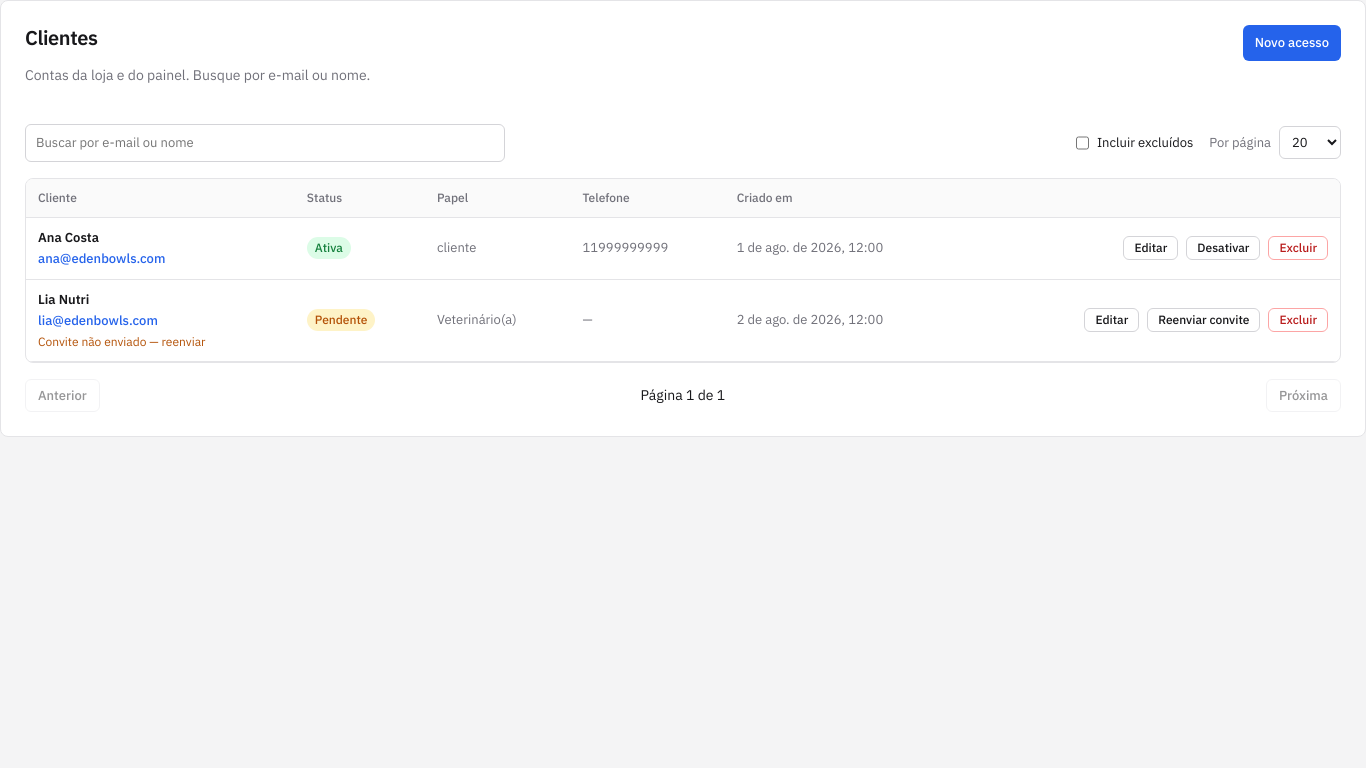
Test case: UsersPage access CRUD › does not create access when Mercado is empty
This screenshot has width=1366, height=768.
Click the button "Novo acesso" at (1292, 43), box [1243,25,1341,60]
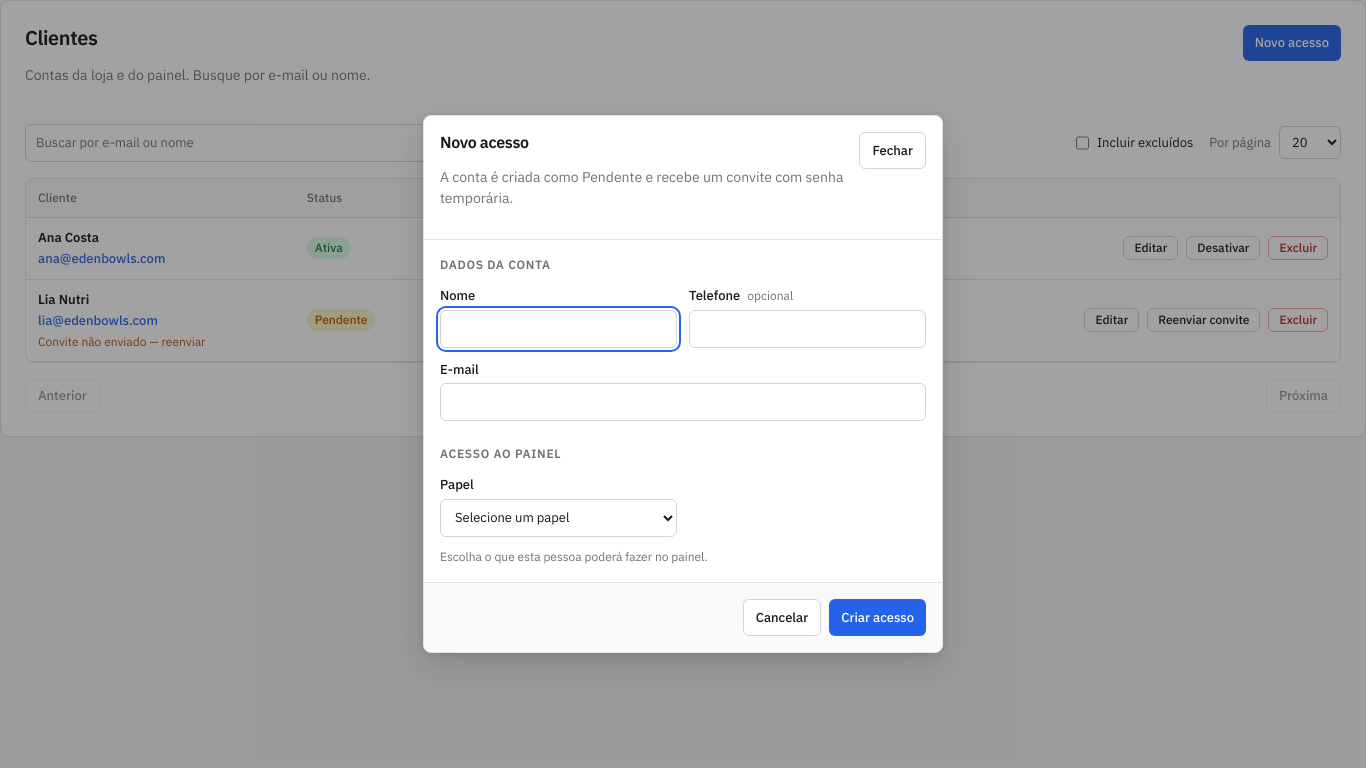
Type "Lia" into the field labelled "Nome" at (558, 329), box [440,310,677,348]
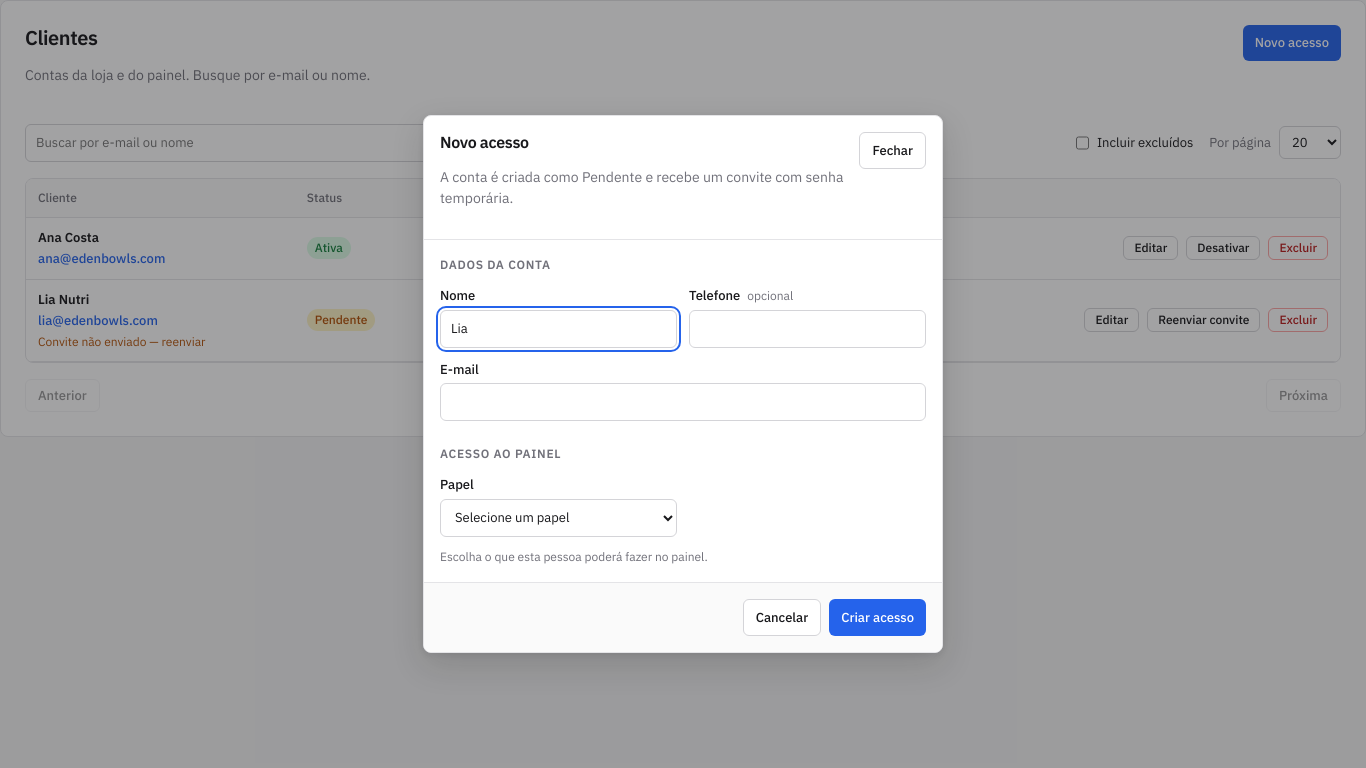
Type "nova.lia@edenbowls.com" into the field labelled "E-mail" at (683, 402), box [440,383,926,421]
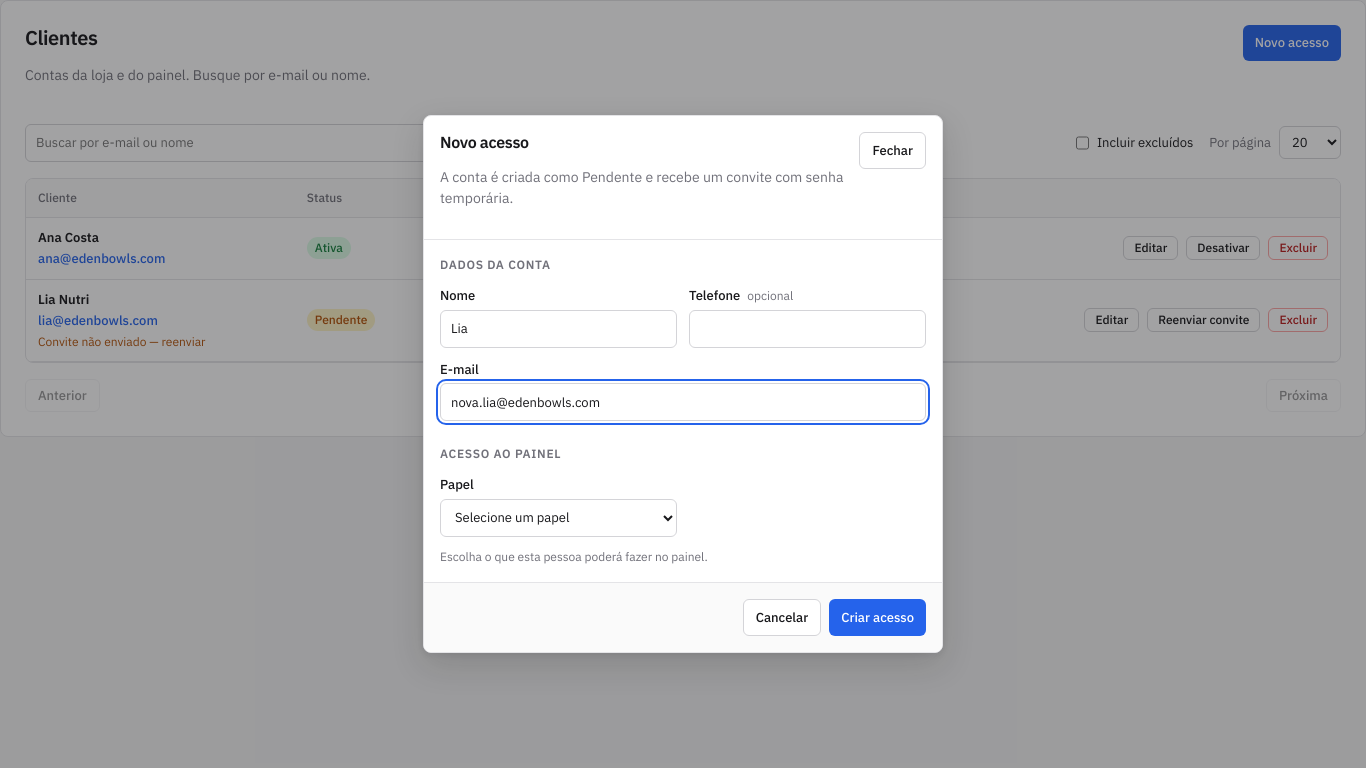
Select "Operador" in the dropdown labelled "Papel" at (558, 518), box [440,499,677,537]
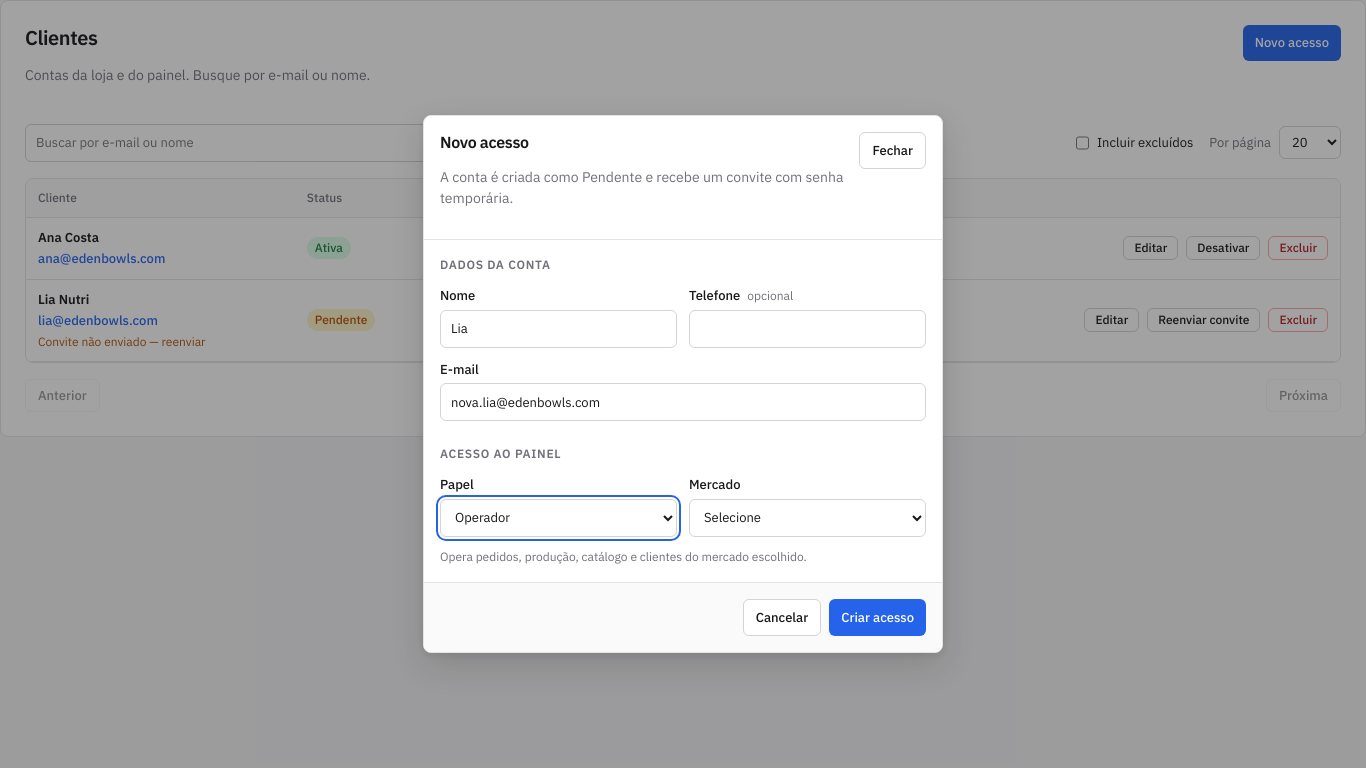
Click the button "Criar acesso" at (878, 617), box [829,599,926,636]
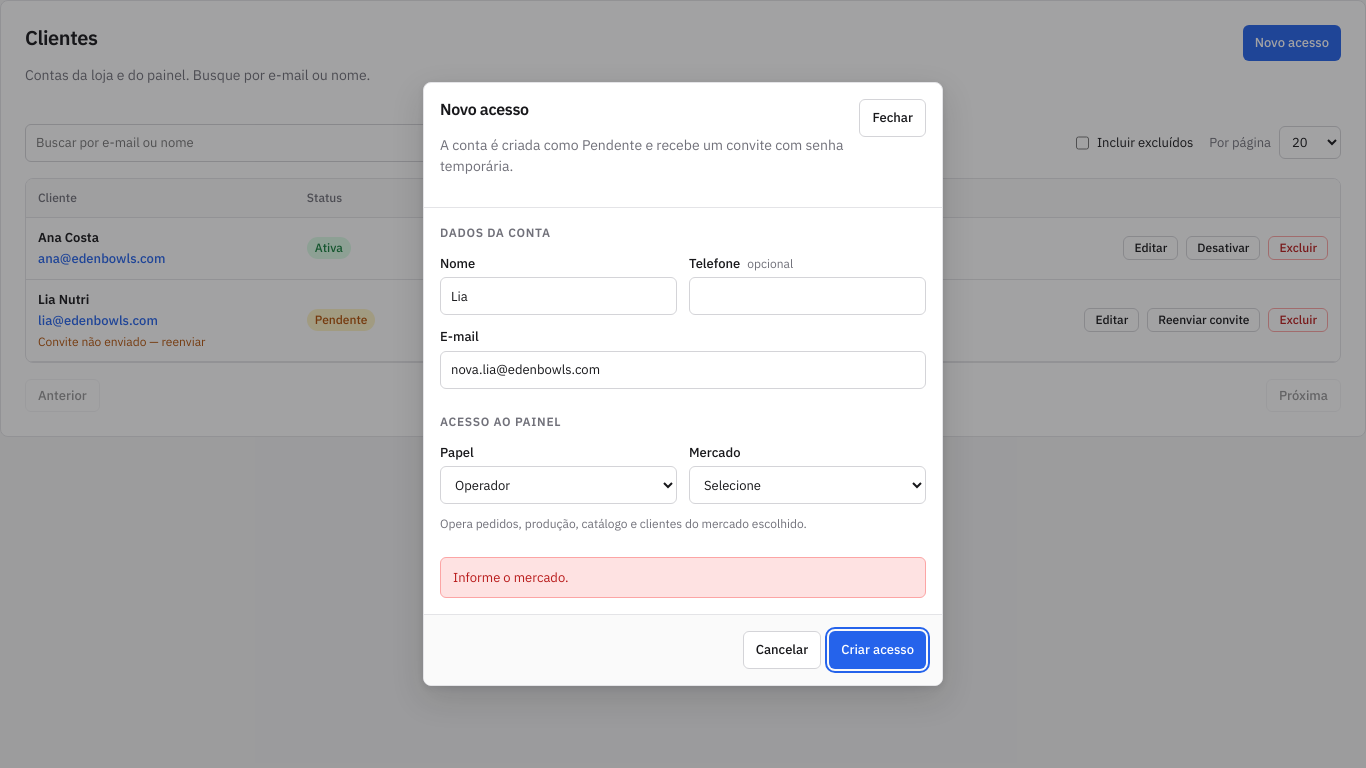
Check: the text "Informe o mercado." is shown, box [440,557,926,598]
